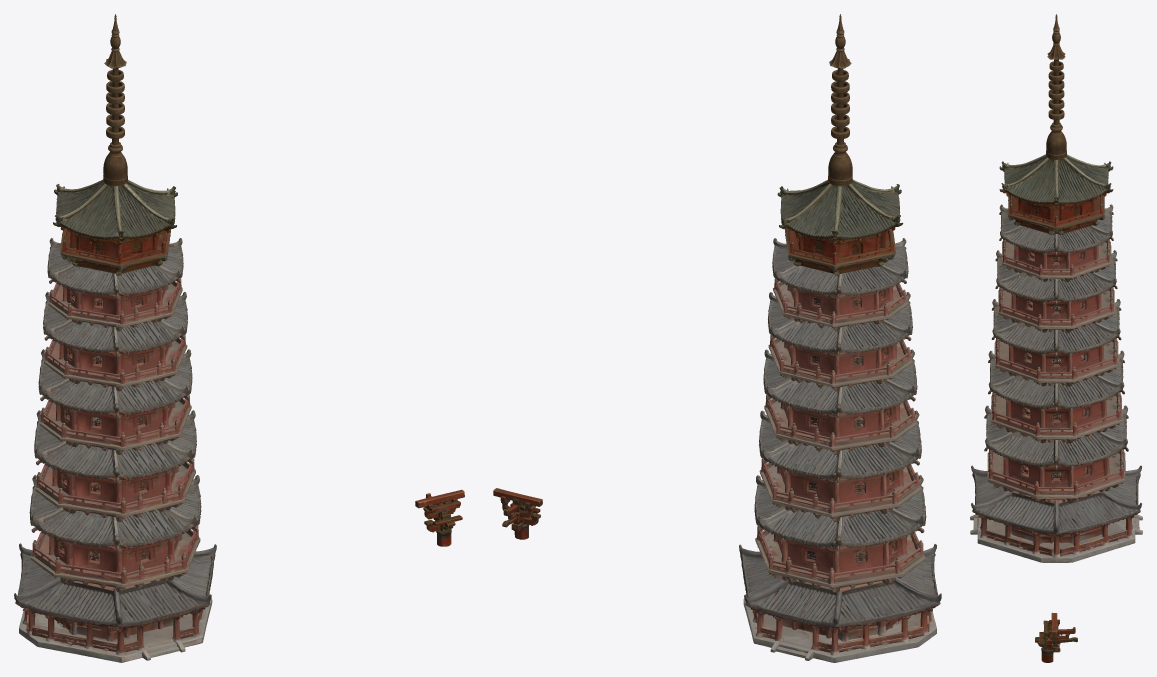
Rendered from feiying-mobile.glb.
3 renders of one model, left to right at view 1: azimuth 30°, elevation 25°; view 2: azimuth 150°, elevation 25°; view 3: azimuth 270°, elevation 25°, orthographic. The views are drawn at different scales.
Parts seen in each view (by area): view 1: 外塔_01_副阶_geo, 外塔_02_geo, 外塔_03_geo, 外塔_04_geo, 外塔_07_顶层_geo, 外塔_05_geo, 外塔_06_geo, 塔刹_geo, 细部_斗栱_geo; view 2: 外塔_01_副阶_geo, 外塔_02_geo, 外塔_03_geo, 外塔_04_geo, 外塔_07_顶层_geo, 外塔_05_geo, 外塔_06_geo, 塔刹_geo, 细部_斗栱_geo; view 3: 外塔_01_副阶_geo, 外塔_02_geo, 外塔_03_geo, 外塔_04_geo, 外塔_07_顶层_geo, 外塔_05_geo, 外塔_06_geo, 塔刹_geo, 细部_斗栱_geo.
Boxes of the visible parts, box(x1,y1,x2,y2) form: 外塔_01_副阶_geo: box(14, 543, 216, 662); 外塔_02_geo: box(29, 475, 201, 592); 外塔_03_geo: box(34, 410, 196, 521); 外塔_04_geo: box(38, 349, 192, 454); 外塔_07_顶层_geo: box(53, 179, 177, 275); 外塔_05_geo: box(43, 291, 187, 391); 外塔_06_geo: box(47, 238, 183, 331); 塔刹_geo: box(103, 14, 127, 186); 细部_斗栱_geo: box(415, 489, 464, 546); 外塔_01_副阶_geo: box(739, 544, 941, 662); 外塔_02_geo: box(754, 475, 926, 592); 外塔_03_geo: box(759, 410, 921, 522); 外塔_04_geo: box(763, 349, 917, 454); 外塔_07_顶层_geo: box(777, 179, 903, 275); 外塔_05_geo: box(768, 292, 912, 391); 外塔_06_geo: box(772, 238, 908, 331); 塔刹_geo: box(828, 14, 852, 186); 细部_斗栱_geo: box(493, 488, 542, 539); 外塔_01_副阶_geo: box(970, 465, 1142, 562); 外塔_02_geo: box(984, 405, 1128, 503); 外塔_03_geo: box(988, 350, 1124, 443); 外塔_04_geo: box(991, 299, 1121, 386); 外塔_07_顶层_geo: box(999, 154, 1113, 234); 外塔_05_geo: box(995, 250, 1117, 332); 外塔_06_geo: box(999, 204, 1113, 281); 塔刹_geo: box(1046, 14, 1066, 159); 细部_斗栱_geo: box(1035, 612, 1077, 662).
Bounding box in the file's own units: 31.01 × 40.06 × 12.24.
Materials: 6 (6 with a texture image).
